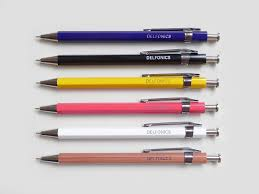qillqana: (28, 147, 227, 173), (32, 22, 229, 45), (33, 96, 221, 117), (33, 122, 221, 141), (34, 51, 223, 68), (35, 73, 220, 90)
